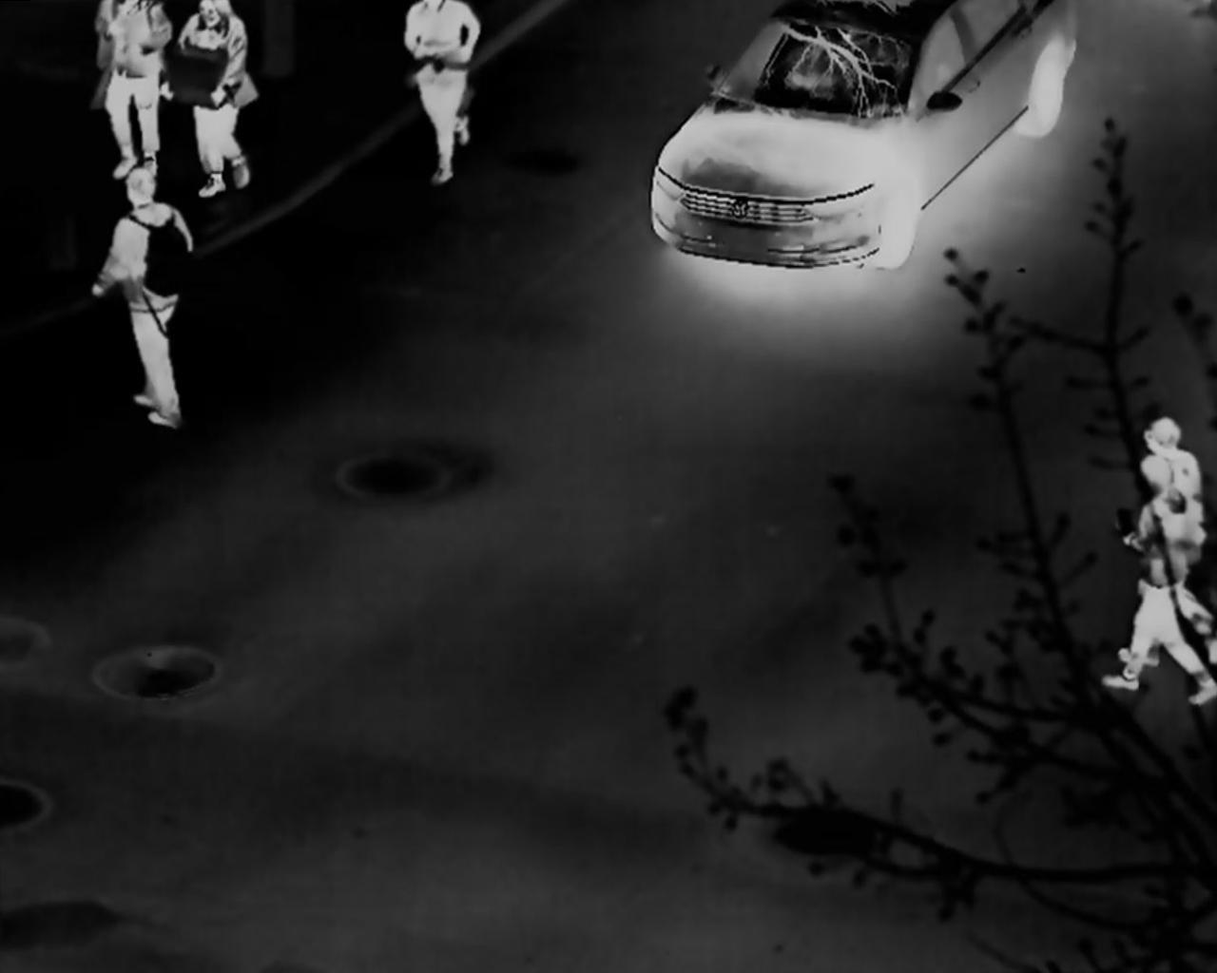person: (1097, 454, 1217, 707), (89, 166, 191, 429)
